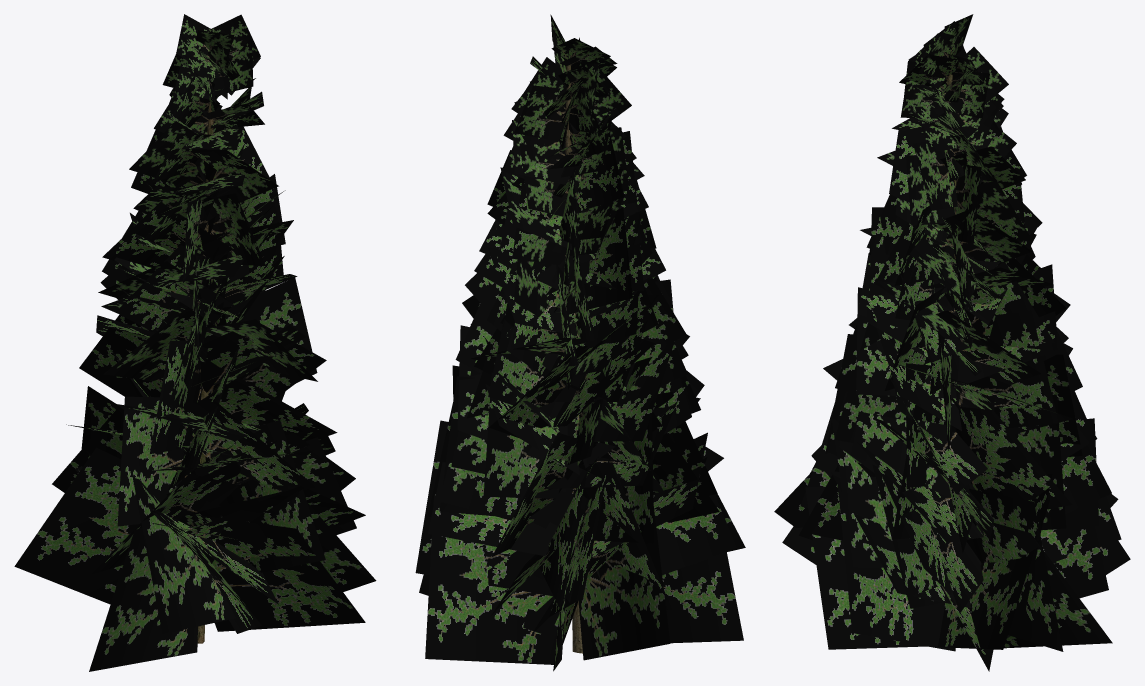
Rendered from tree-compressed.glb.
The picture shows the model from 3 angles, left to right: view 1: azimuth 30°, elevation 25°; view 2: azimuth 150°, elevation 25°; view 3: azimuth 270°, elevation 25°; orthographic projection.
Parts seen in each view (by area): view 1: Tree_0; view 2: Tree_0; view 3: Tree_0.
Part boxes in pixels (x1,y1,x2,y2): Tree_0: (14, 14, 376, 671); Tree_0: (415, 14, 745, 671); Tree_0: (774, 14, 1130, 671).
Bounding box in the file's own units: 0.7848 × 1.64 × 0.8426.
2 materials, 2 textured.
